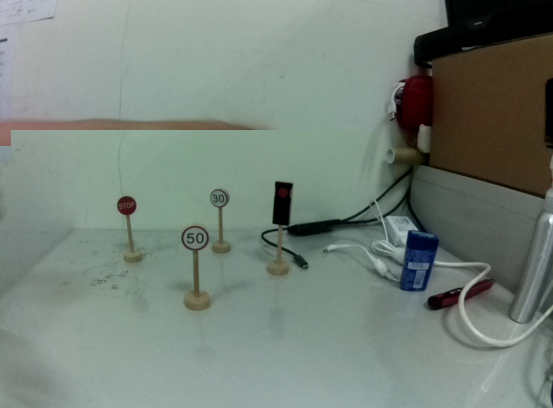Red: (271, 179, 294, 229)
Speed30: (207, 187, 230, 210)
Speed50: (181, 222, 209, 252)
Stop: (115, 195, 138, 217)
